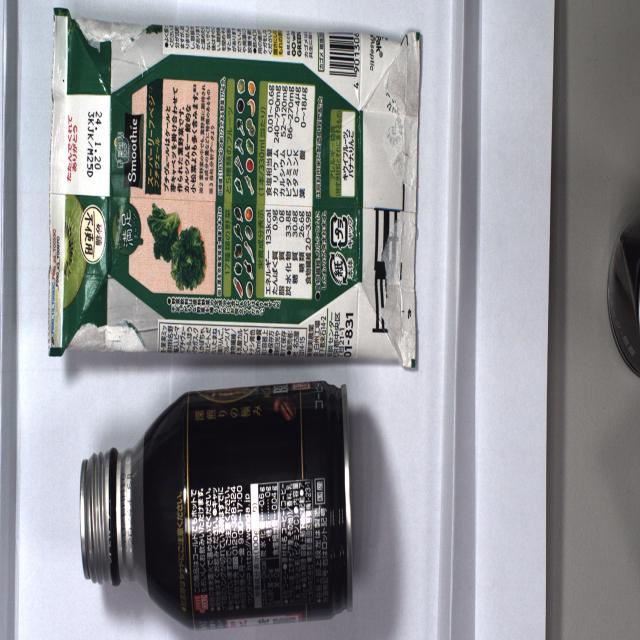Aluminium Foil: (49, 4, 416, 375)
Can: (70, 372, 358, 640)
